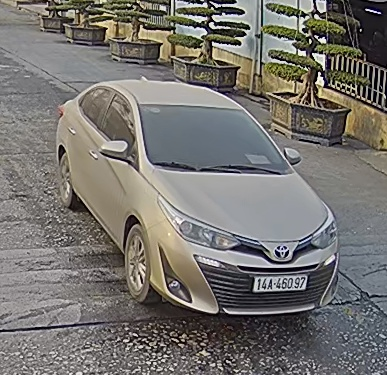vehicle plate: (249, 271, 310, 292)
